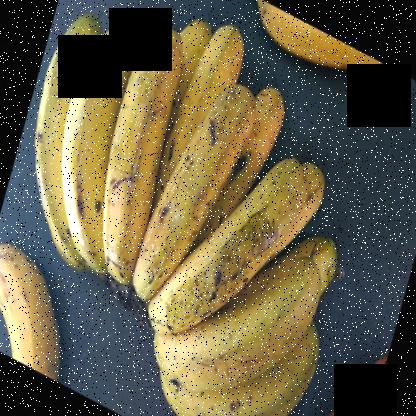ripe: (136, 148, 308, 331), (131, 76, 261, 292), (85, 32, 187, 280), (131, 267, 330, 378), (53, 30, 134, 282), (32, 10, 98, 281), (148, 330, 326, 415), (0, 233, 78, 380)
